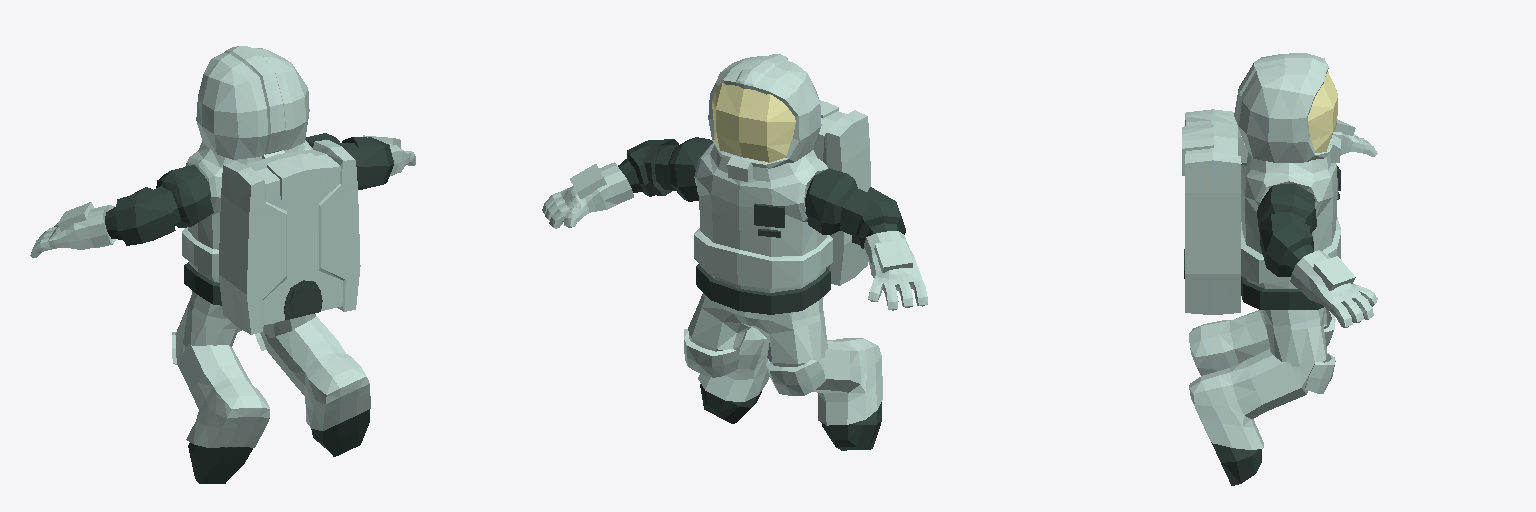
3 renders of one model, left to right at view 1: azimuth 30°, elevation 25°; view 2: azimuth 150°, elevation 25°; view 3: azimuth 270°, elevation 25°, orthographic.
Visible parts, largest first — view 1: Astronaut_White; view 2: Astronaut_White; view 3: Astronaut_White.
Boxes of the visible parts, x1=… form: Astronaut_White: x1=30, y1=46, x2=415, y2=483; Astronaut_White: x1=542, y1=54, x2=927, y2=450; Astronaut_White: x1=1182, y1=53, x2=1377, y2=485.
Size of the model in its own units: 0.3457 by 0.3384 by 0.1518.
1 materials, 1 textured.